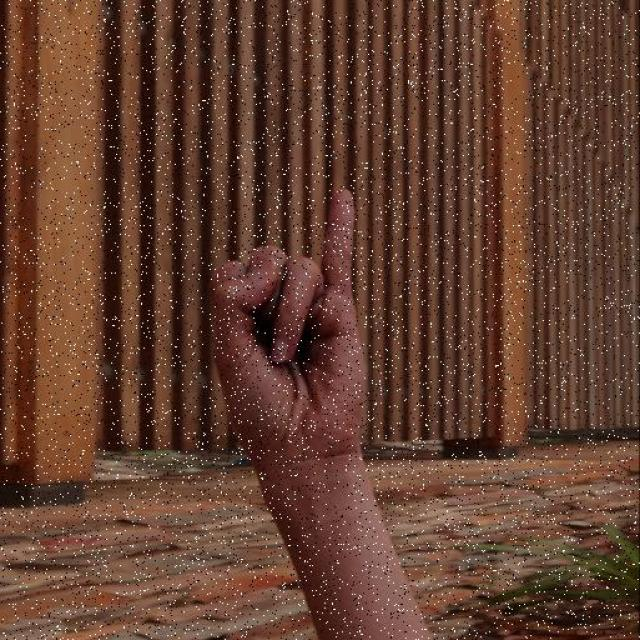I: (207, 178, 369, 480)
